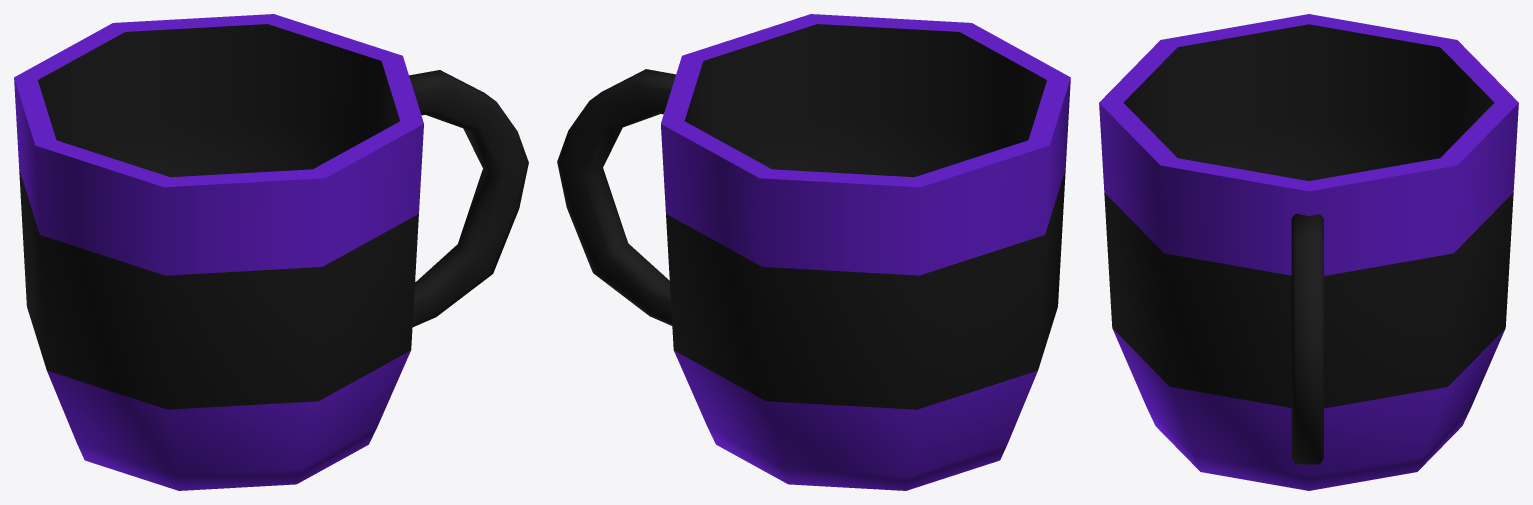
File: Coffee_Cup_13.FBX
3 renders of one model, left to right at view 1: azimuth 30°, elevation 25°; view 2: azimuth 150°, elevation 25°; view 3: azimuth 270°, elevation 25°, orthographic.
Visible parts, largest first — view 1: Coffee Cup; view 2: Coffee Cup; view 3: Coffee Cup.
Part boxes in pixels (x1,y1,x2,y2): Coffee Cup: (14,14,528,490); Coffee Cup: (557,14,1070,490); Coffee Cup: (1099,14,1518,490).
Bounding box in the file's own units: 44.01 × 28.24 × 33.22.
